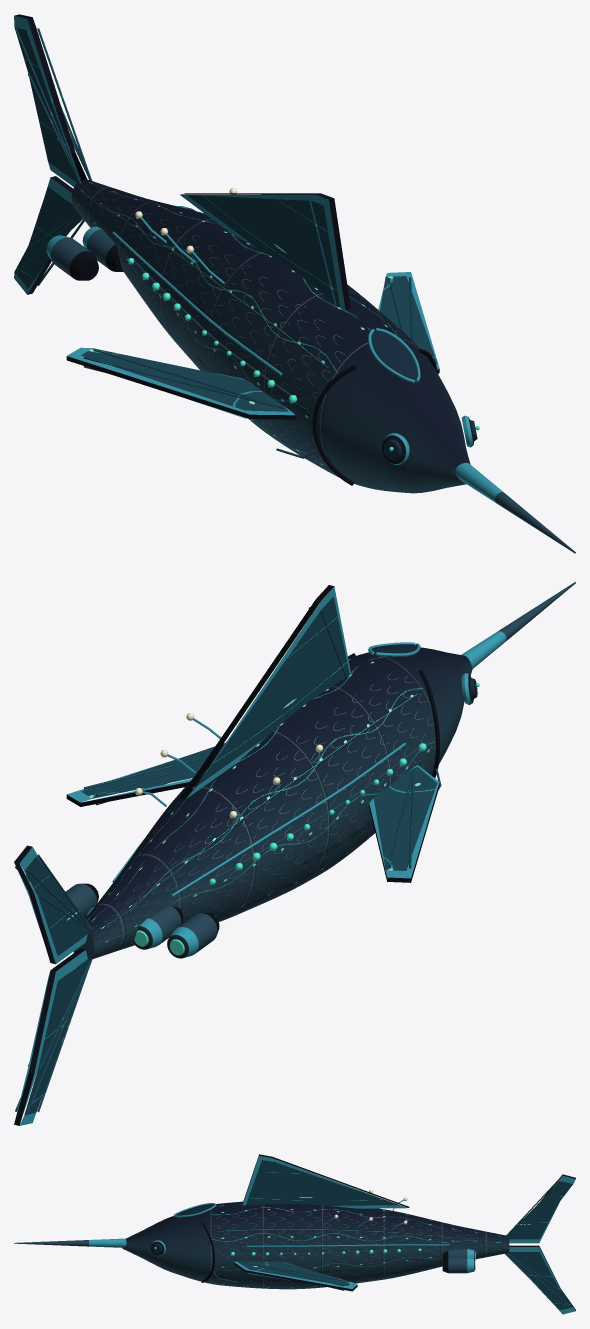
3 renders of one model, top to bottom at view 1: azimuth 30°, elevation 25°; view 2: azimuth 150°, elevation 25°; view 3: azimuth 270°, elevation 25°, orthographic. The views are drawn at different scales.
Parts seen in each view (by area): view 1: marlin_hull; view 2: marlin_hull; view 3: marlin_hull.
Boxes of the visible parts, box(x1,y1,x2,y2) form: marlin_hull: box(14, 14, 575, 553); marlin_hull: box(14, 582, 575, 1125); marlin_hull: box(14, 1154, 575, 1314).
Bounding box in the file's own units: 29.91 × 26.23 × 84.
1 material, 1 textured.
